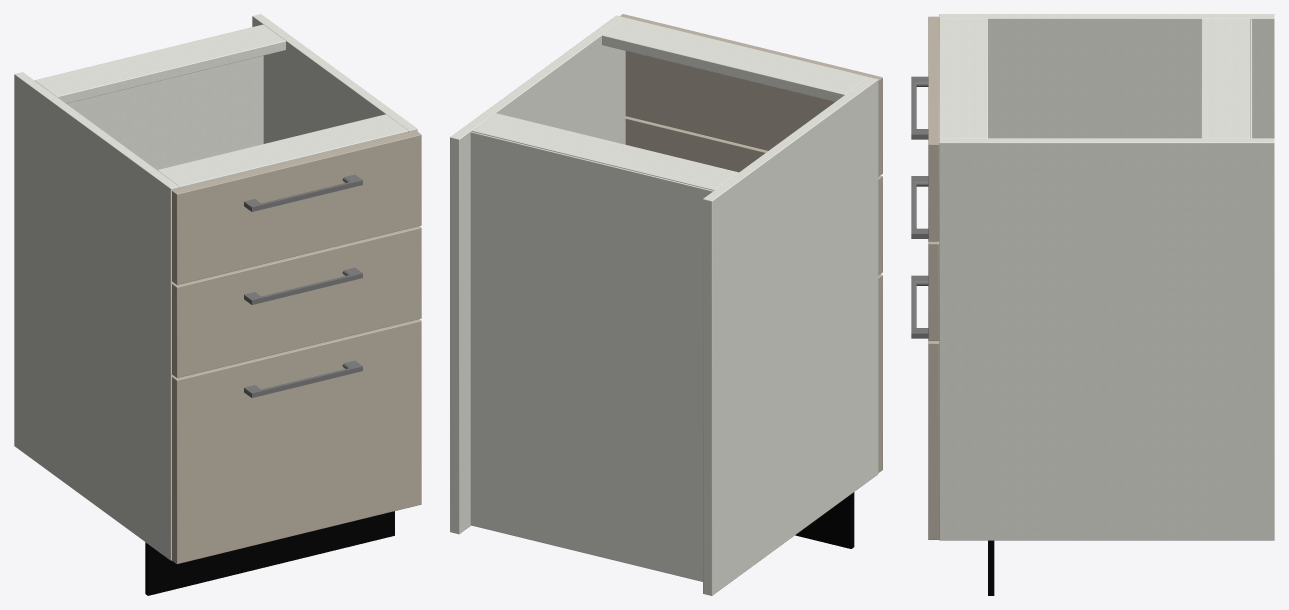
The picture shows the model from 3 angles, left to right: view 1: azimuth 30°, elevation 25°; view 2: azimuth 150°, elevation 25°; view 3: azimuth 270°, elevation 25°; orthographic projection. The views are drawn at different scales.
Parts seen in each view (by area): view 1: r18, Stranica Leva, Leđa, Stranica Desna, Vezna Zadnja H, Vezna Prednja H, Union (×3); view 2: Leđa, Stranica Leva, r18, Stranica Desna, Vezna Prednja H, Vezna Zadnja H; view 3: Stranica Desna, Stranica Leva, r18, Vezna Zadnja H, Vezna Prednja H, Union (×3).
Boxes of the visible parts, bbox=[...] form: r18: bbox=[145, 131, 421, 595]; Stranica Leva: bbox=[14, 72, 179, 560]; Leđa: bbox=[66, 55, 263, 169]; Stranica Desna: bbox=[252, 14, 417, 143]; Vezna Zadnja H: bbox=[35, 24, 285, 103]; Vezna Prednja H: bbox=[157, 114, 408, 188]; Union (×3): bbox=[244, 174, 362, 397]; Leđa: bbox=[470, 131, 713, 581]; Stranica Leva: bbox=[703, 77, 878, 595]; r18: bbox=[620, 14, 882, 548]; Stranica Desna: bbox=[450, 15, 625, 534]; Vezna Prednja H: bbox=[602, 18, 868, 101]; Vezna Zadnja H: bbox=[471, 113, 738, 190]; Stranica Desna: bbox=[939, 138, 1274, 540]; Stranica Leva: bbox=[939, 14, 1274, 138]; r18: bbox=[928, 16, 994, 595]; Vezna Zadnja H: bbox=[1201, 18, 1250, 138]; Vezna Prednja H: bbox=[939, 18, 987, 138]; Union (×3): bbox=[911, 76, 928, 338].
Size of the model in its own units: 0.5 by 0.82 by 0.596.
4 materials, 2 textured.
